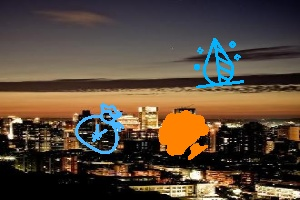大树模型: (158, 111, 213, 160)
竹笋模型: (196, 37, 247, 88)
钱袋: (77, 104, 123, 155)
